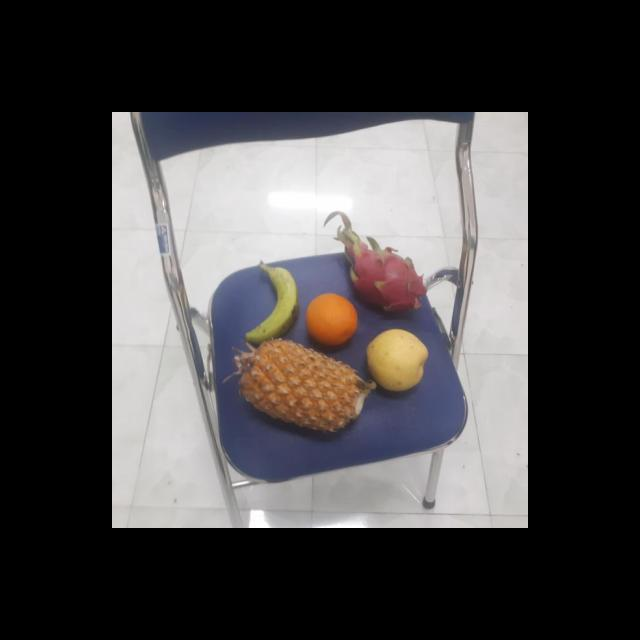orange: (302, 292, 360, 348)
pear: (364, 329, 431, 392)
pineapple: (232, 342, 367, 436)
pitaya: (339, 242, 424, 318)
